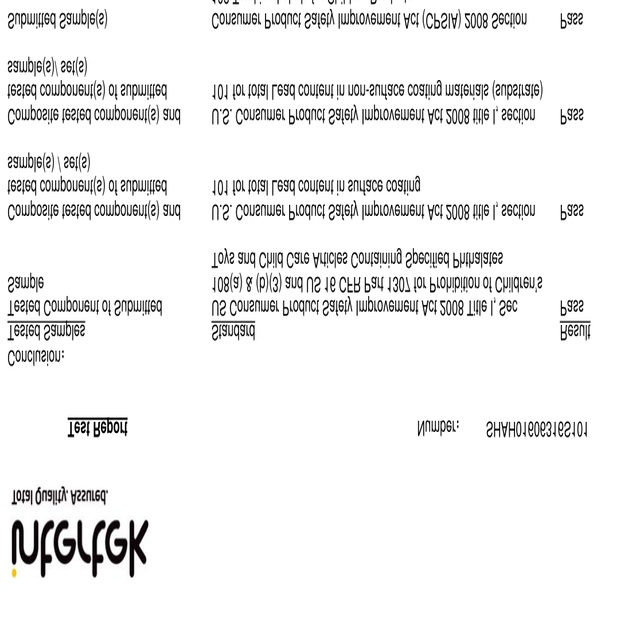intertek: (9, 516, 152, 579)
